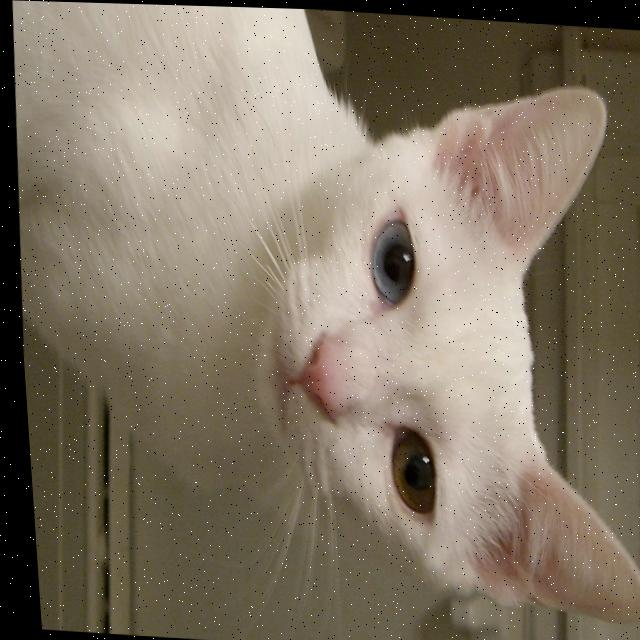Khao Manee: (0, 0, 640, 631)
